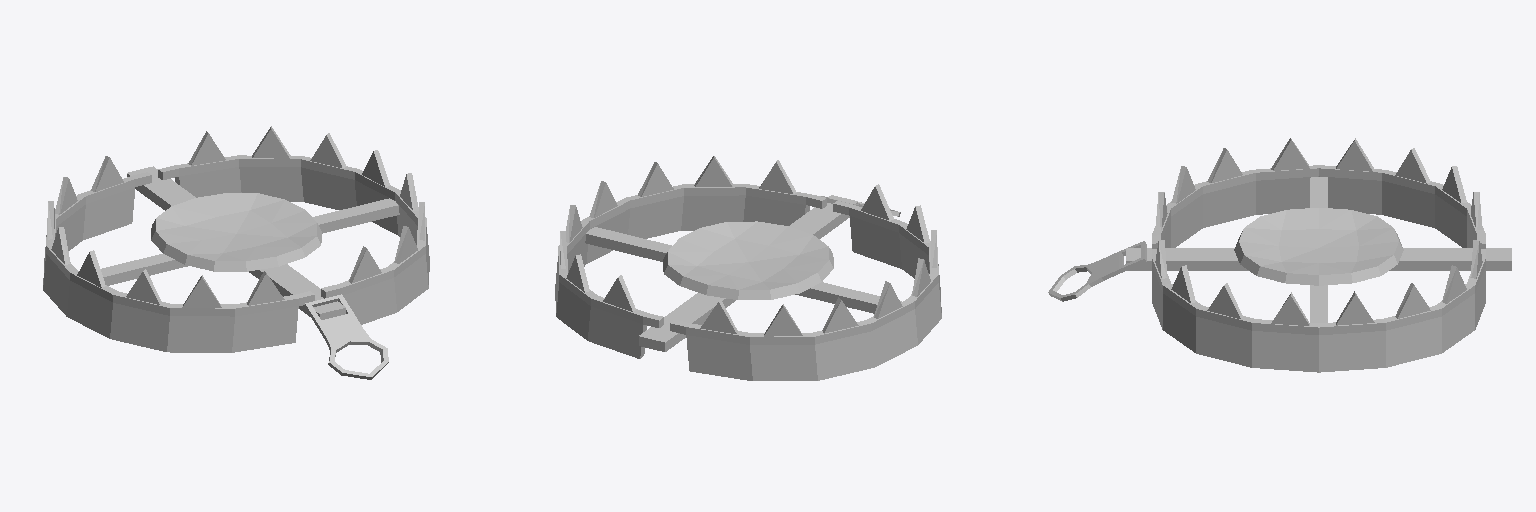
3 views of the same model, side by side, from view 1: azimuth 30°, elevation 25°; view 2: azimuth 150°, elevation 25°; view 3: azimuth 270°, elevation 25° (orthographic).
Visible parts, largest first — view 1: BearTrap_Open.014_Cube.082; view 2: BearTrap_Open.014_Cube.082; view 3: BearTrap_Open.014_Cube.082.
Boxes of the visible parts, box(x1,y1,x2,y2) form: BearTrap_Open.014_Cube.082: box(43, 126, 429, 379); BearTrap_Open.014_Cube.082: box(555, 156, 941, 380); BearTrap_Open.014_Cube.082: box(1048, 138, 1511, 372).
Bounding box in the file's own units: 44.87 × 10.13 × 53.16.